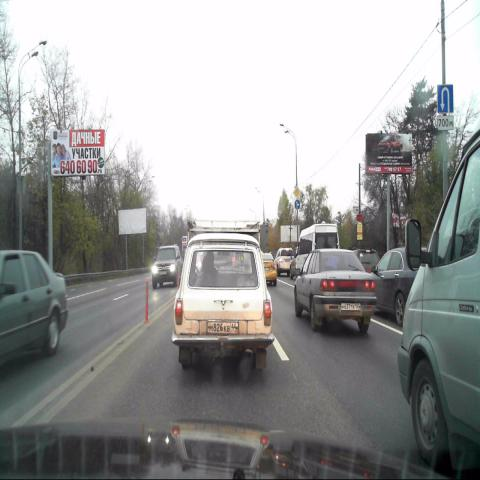6_3_1: (437, 84, 453, 112)
